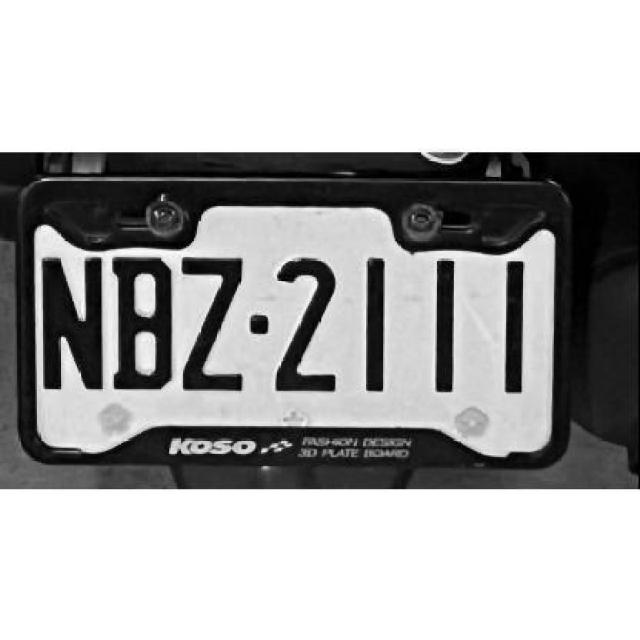-: (251, 312, 269, 337)
1: (432, 254, 458, 392), (363, 252, 388, 392), (502, 255, 526, 394)
2: (271, 254, 340, 397)
B: (111, 255, 175, 394)
N: (37, 255, 105, 394)
Z: (182, 251, 246, 395)
